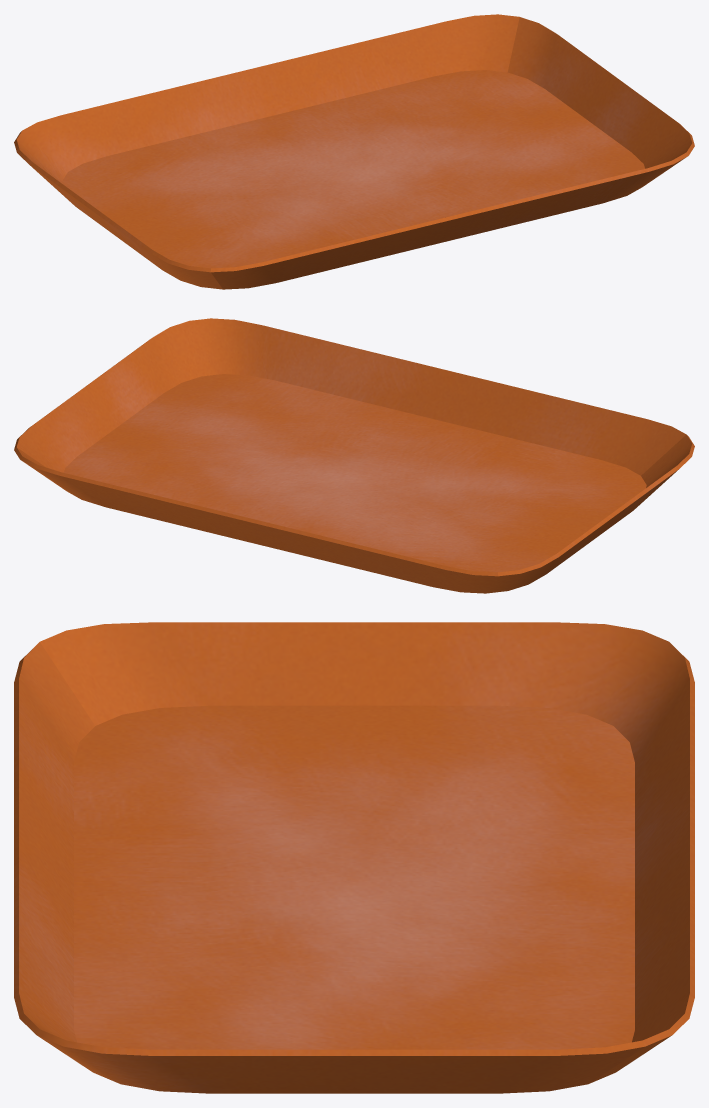
The model's file is Tray.fbx.
3 views of the same model, one above another, from view 1: azimuth 30°, elevation 25°; view 2: azimuth 150°, elevation 25°; view 3: azimuth 270°, elevation 25° (orthographic). The views are drawn at different scales.
Visible parts, largest first — view 1: Tray; view 2: Tray; view 3: Tray.
Boxes of the visible parts, bbox=[...] form: Tray: bbox=[14, 14, 694, 289]; Tray: bbox=[14, 318, 694, 593]; Tray: bbox=[14, 622, 694, 1093].
Size of the model in its own units: 45 by 3.23 by 30.
